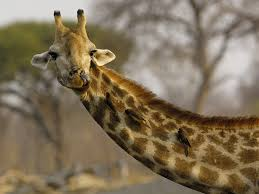Jirafa: (26, 3, 186, 161)
